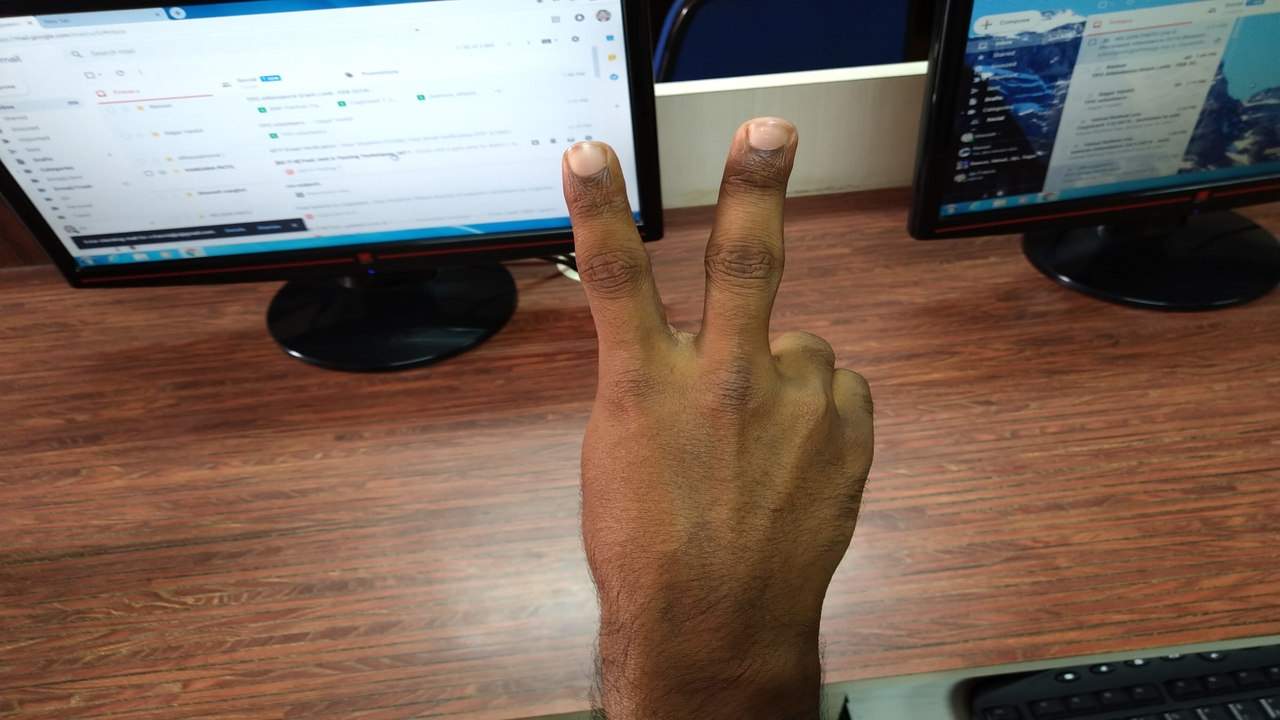fingertip: (724, 112, 806, 174), (552, 136, 622, 192)
